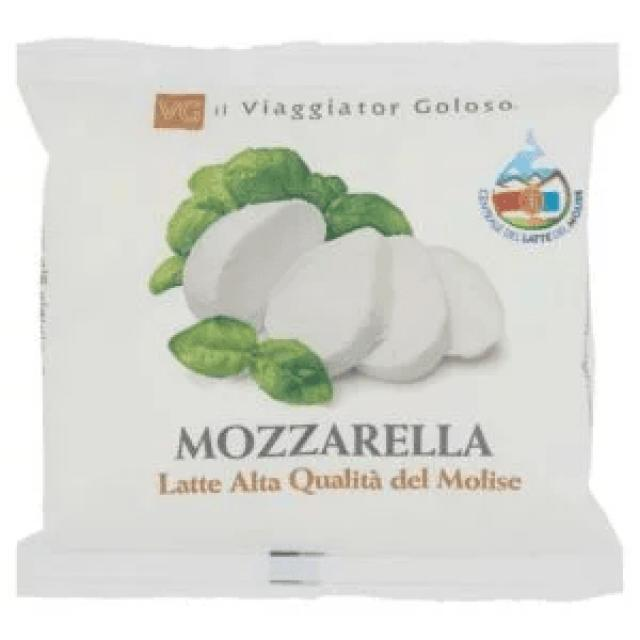Cheese: (22, 42, 626, 595)
